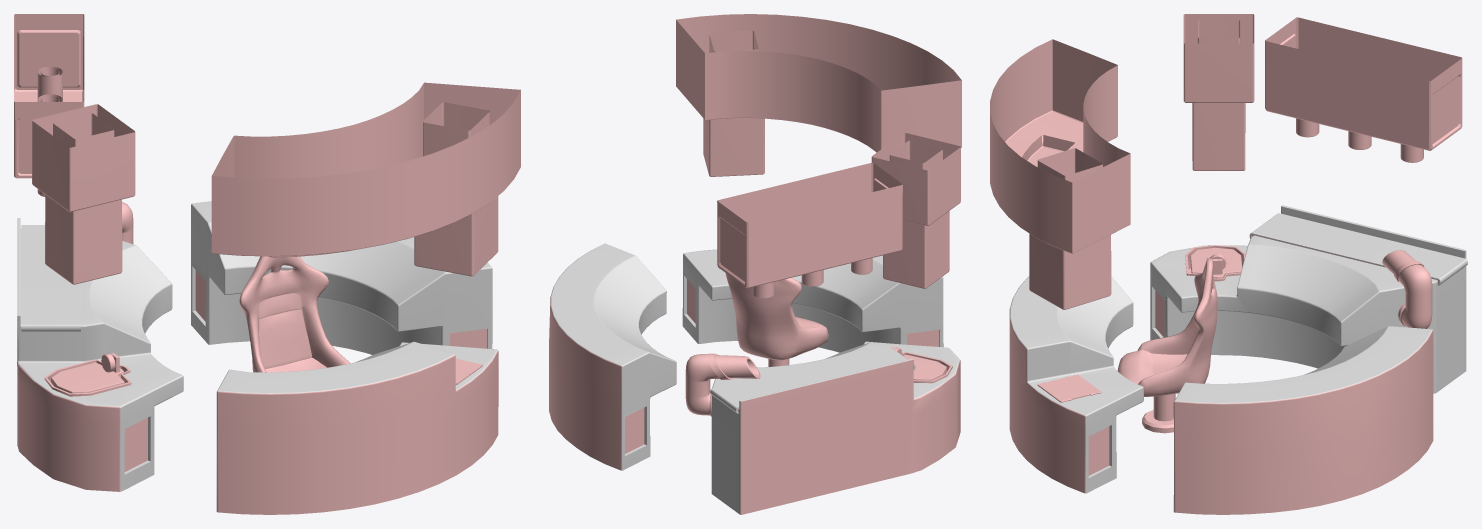
The model's file is stations_final_NEW.fbx.
The picture shows the model from 3 angles, left to right: view 1: azimuth 30°, elevation 25°; view 2: azimuth 150°, elevation 25°; view 3: azimuth 270°, elevation 25°; orthographic projection. The views are drawn at different scales.
Visible parts, largest first — view 1: stations_base, drone_station_overhead, Chair, box_dispenser_decorative, med_assembly_overhead, box_dispenser, drone_dispenser, conveyer_belt, pCube73, pipe2; view 2: stations_base, drone_station_overhead, med_assembly_overhead, Chair, box_dispenser, box_dispenser_decorative, drone_dispenser, conveyer_belt, side_pipe, pCube73; view 3: stations_base, drone_station_overhead, med_assembly_overhead, drone_dispenser, Chair, box_dispenser_decorative, conveyer_belt, box_dispenser, side_pipe, chair_base, pCube73.
Boxes of the visible parts, x1,y1,x2,y2 form: stations_base: [17, 201, 498, 514]; drone_station_overhead: [211, 82, 520, 257]; Chair: [239, 256, 350, 372]; box_dispenser_decorative: [32, 104, 135, 212]; med_assembly_overhead: [14, 14, 84, 178]; box_dispenser: [45, 113, 122, 284]; drone_dispenser: [414, 102, 498, 276]; conveyer_belt: [21, 225, 80, 331]; pCube73: [51, 362, 124, 393]; pipe2: [37, 66, 62, 98]; stations_base: [549, 243, 960, 514]; drone_station_overhead: [676, 14, 961, 152]; med_assembly_overhead: [717, 162, 902, 288]; Chair: [725, 273, 828, 360]; box_dispenser: [883, 140, 949, 288]; box_dispenser_decorative: [871, 133, 960, 225]; drone_dispenser: [703, 30, 764, 176]; conveyer_belt: [710, 345, 915, 413]; side_pipe: [685, 353, 760, 416]; pCube73: [903, 354, 946, 380]; stations_base: [1009, 205, 1466, 514]; drone_station_overhead: [990, 39, 1130, 253]; med_assembly_overhead: [1265, 17, 1462, 150]; drone_dispenser: [1029, 148, 1111, 309]; Chair: [1117, 258, 1217, 396]; box_dispenser_decorative: [1183, 14, 1254, 102]; conveyer_belt: [1249, 213, 1467, 285]; box_dispenser: [1192, 20, 1245, 170]; side_pipe: [1382, 250, 1432, 328]; chair_base: [1142, 393, 1175, 433]; pCube73: [1190, 247, 1242, 278].
Bounding box in the file's own units: 369 × 284 × 387.
